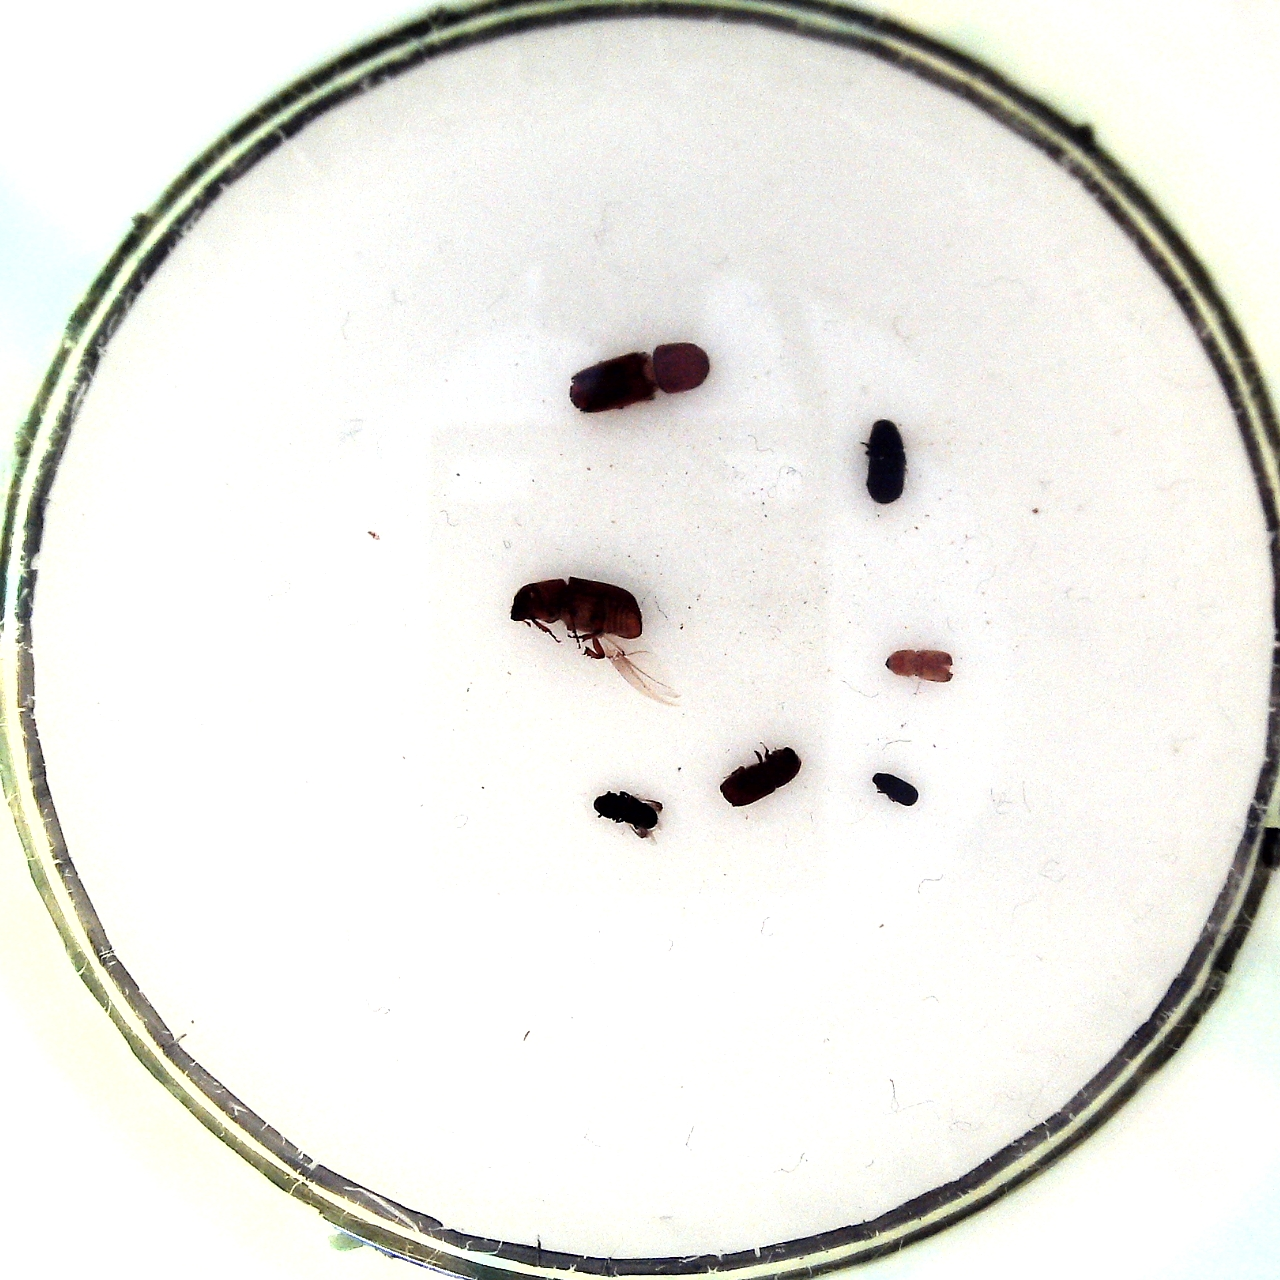Boerner: (563, 338, 717, 414)
Leconte: (502, 571, 674, 707)
Linnaeus: (717, 738, 805, 809)
acuminatus: (881, 647, 964, 688)
armandi: (856, 411, 915, 512)
coleoptera: (588, 781, 668, 843), (864, 765, 925, 813)
